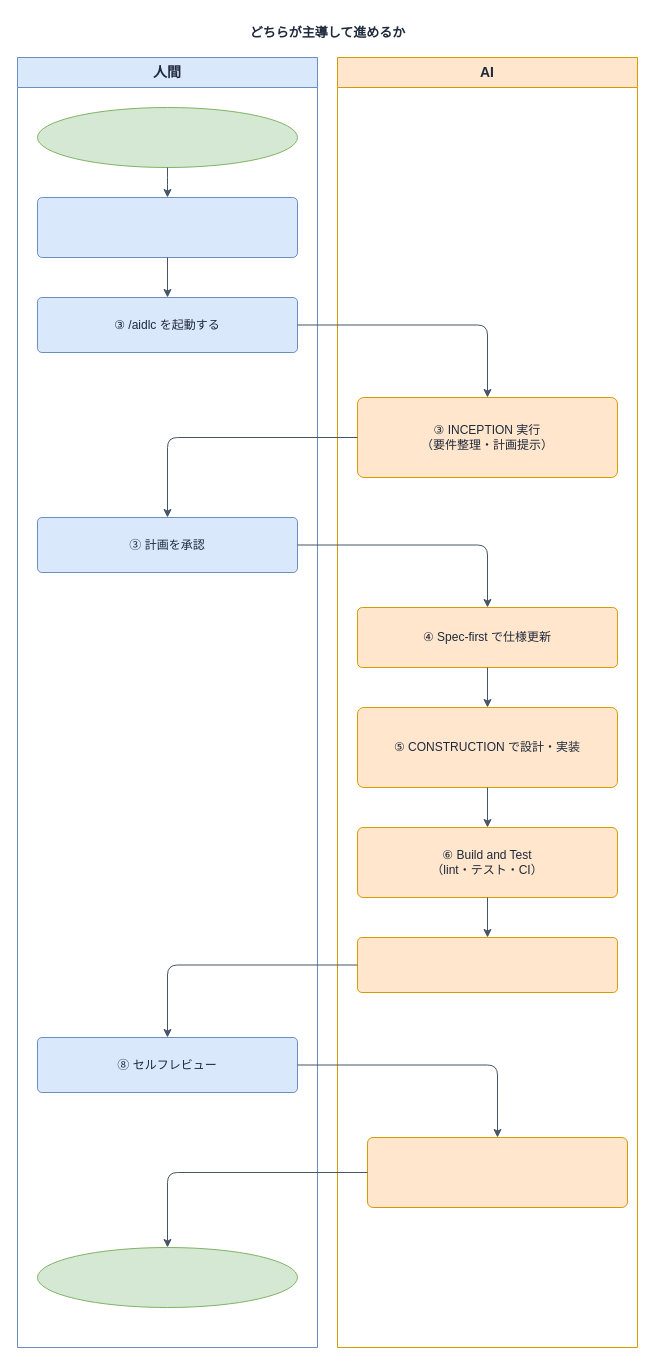
Image size: 655x1365. Some labels were removed from this diagram. The box of each missing label's shape, as (x1, y1, x2, y2) in pixels:
① Issue を選ぶ: (36, 106, 298, 168)
② フィーチャーブランチ作成: (36, 196, 298, 258)
⑦ PR 作成: (356, 936, 618, 992)
⑧ AI レビュー （3観点判定）: (366, 1136, 628, 1208)
⑧ 自分のトランクへマージ: (36, 1246, 298, 1308)
